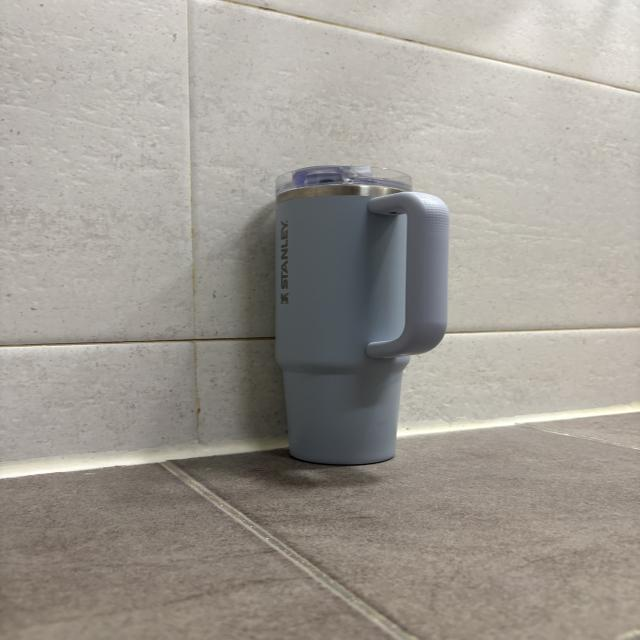waterbottle: (275, 162, 448, 466)
